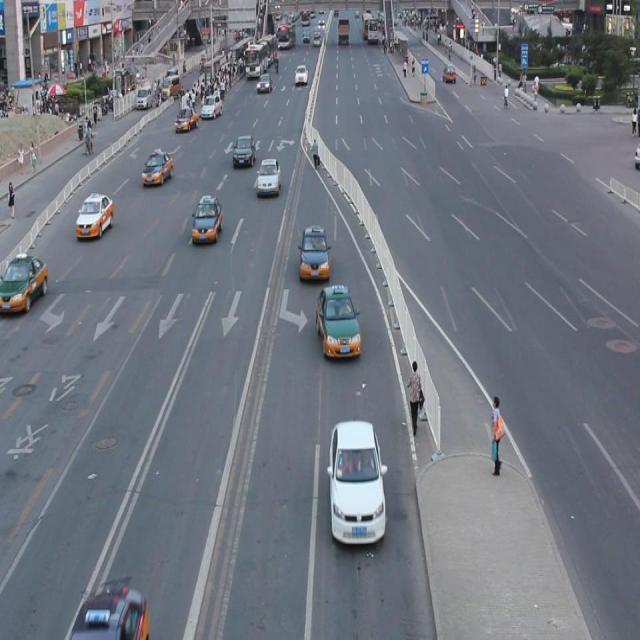car: (327, 416, 386, 544), (69, 584, 151, 640), (315, 282, 360, 360), (1, 252, 49, 316), (75, 191, 115, 240), (297, 223, 330, 280), (191, 194, 223, 244), (141, 148, 174, 186), (255, 157, 281, 196), (232, 133, 256, 168)
